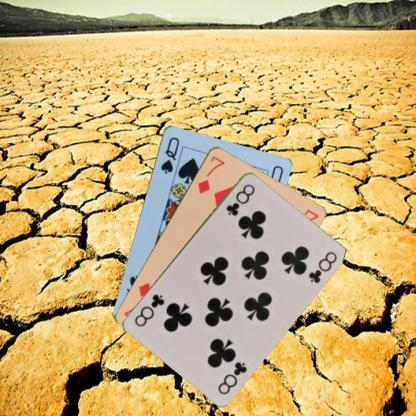7d: (195, 153, 226, 195)
8c: (214, 358, 248, 396), (223, 180, 256, 218)
Qs: (158, 134, 180, 175)
